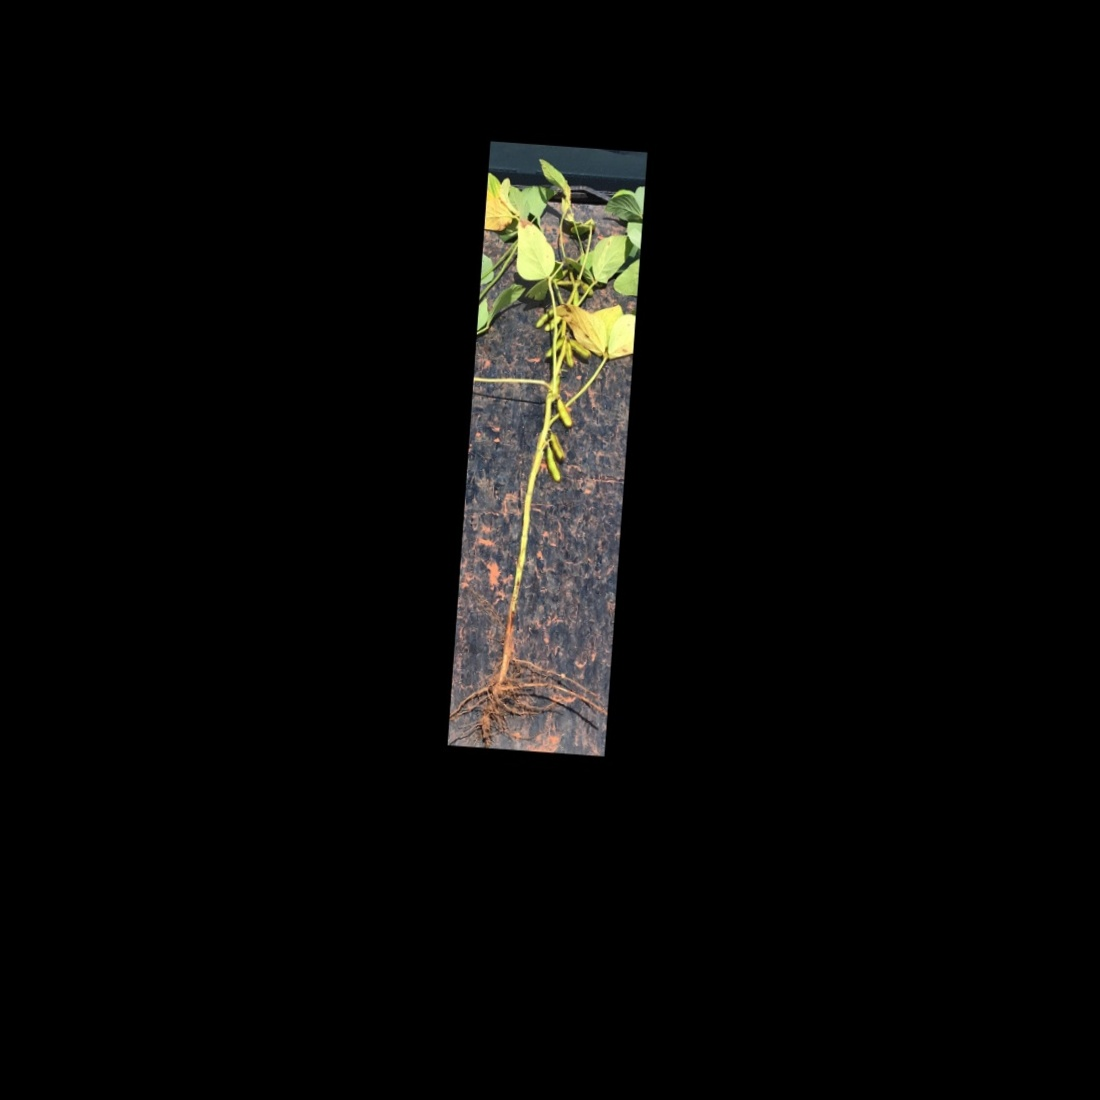pod: (539, 442, 565, 485), (549, 395, 576, 432), (545, 432, 568, 464), (532, 305, 555, 333), (540, 332, 564, 359), (566, 338, 595, 360), (542, 311, 564, 337), (575, 278, 597, 296)
soy: (455, 158, 641, 735)
